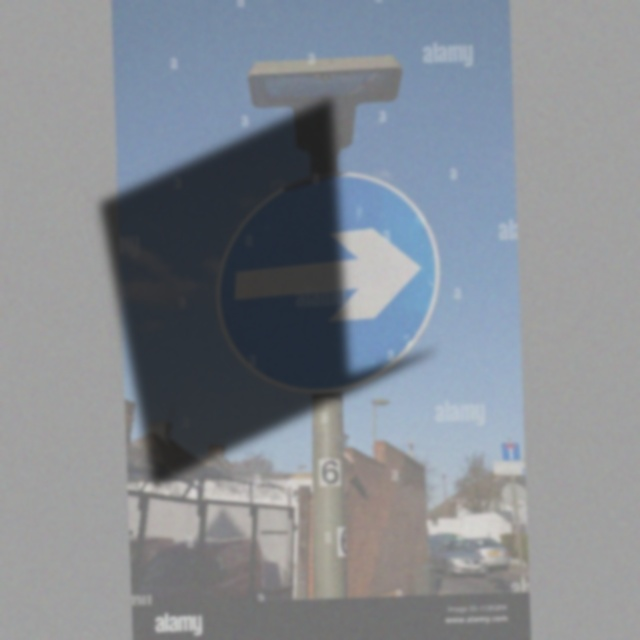Compulsory_Turn_Right: (208, 169, 442, 397)
